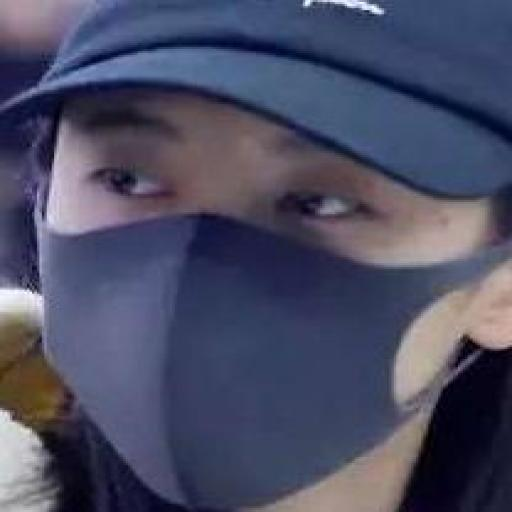mask: (7, 49, 485, 475)
